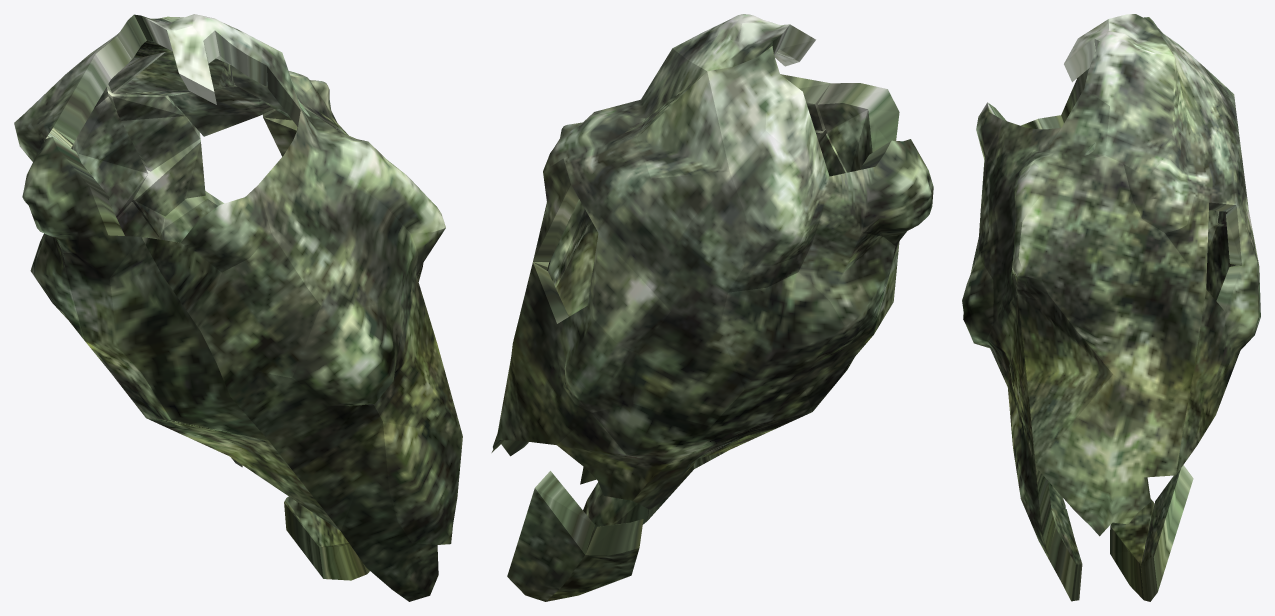
The model's file is metin_stone.glb.
The picture shows the model from 3 angles, left to right: view 1: azimuth 30°, elevation 25°; view 2: azimuth 150°, elevation 25°; view 3: azimuth 270°, elevation 25°; orthographic projection. The views are drawn at different scales.
Visible parts, largest first — view 1: Object35, Object34, Object36, Object32, Object38, Object44, Object51, Object30, Object39, Object50, Object45, Object56 (+31 smaller); view 2: Object52, Object53, Object57, Object56, Object76, Object75, Object84, Object60, Object74, Object50, Object61, Object54 (+30 smaller); view 3: Object41, Object40, Object43, Object25, Object72, Object42, Object19, Object76, Object66, Object24, Object71, Object74 (+31 smaller).
Boxes of the visible parts, x1=… form: Object35: x1=109, y1=237, x2=221, y2=373; Object34: x1=201, y1=233, x2=320, y2=377; Object36: x1=142, y1=363, x2=326, y2=440; Object32: x1=292, y1=303, x2=400, y2=406; Object38: x1=269, y1=404, x2=382, y2=530; Object44: x1=383, y1=421, x2=462, y2=544; Object51: x1=63, y1=186, x2=141, y2=373; Object30: x1=271, y1=200, x2=379, y2=309; Object39: x1=373, y1=274, x2=462, y2=436; Object50: x1=22, y1=137, x2=109, y2=253; Object45: x1=341, y1=422, x2=411, y2=567; Object56: x1=77, y1=96, x2=148, y2=217; Object52: x1=719, y1=272, x2=844, y2=389; Object53: x1=730, y1=131, x2=829, y2=266; Object57: x1=633, y1=311, x2=744, y2=426; Object56: x1=648, y1=172, x2=746, y2=331; Object76: x1=637, y1=60, x2=729, y2=178; Object75: x1=599, y1=172, x2=729, y2=286; Object84: x1=507, y1=471, x2=594, y2=601; Object60: x1=557, y1=306, x2=638, y2=412; Object74: x1=563, y1=118, x2=650, y2=232; Object50: x1=860, y1=139, x2=933, y2=245; Object61: x1=587, y1=233, x2=670, y2=353; Object54: x1=798, y1=166, x2=875, y2=300; Object41: x1=1048, y1=288, x2=1206, y2=409; Object40: x1=1017, y1=294, x2=1112, y2=466; Object43: x1=1036, y1=436, x2=1150, y2=536; Object25: x1=1060, y1=155, x2=1141, y2=243; Object72: x1=1110, y1=219, x2=1205, y2=289; Object42: x1=1036, y1=374, x2=1161, y2=466; Object19: x1=1105, y1=82, x2=1172, y2=176; Object76: x1=1144, y1=57, x2=1225, y2=139; Object66: x1=1133, y1=376, x2=1197, y2=477; Object24: x1=1041, y1=231, x2=1114, y2=297; Object71: x1=1123, y1=148, x2=1194, y2=232; Object74: x1=1172, y1=133, x2=1236, y2=211.
Size of the model in its own units: 151 by 208 by 114.
Materials: 1 (1 with a texture image).
